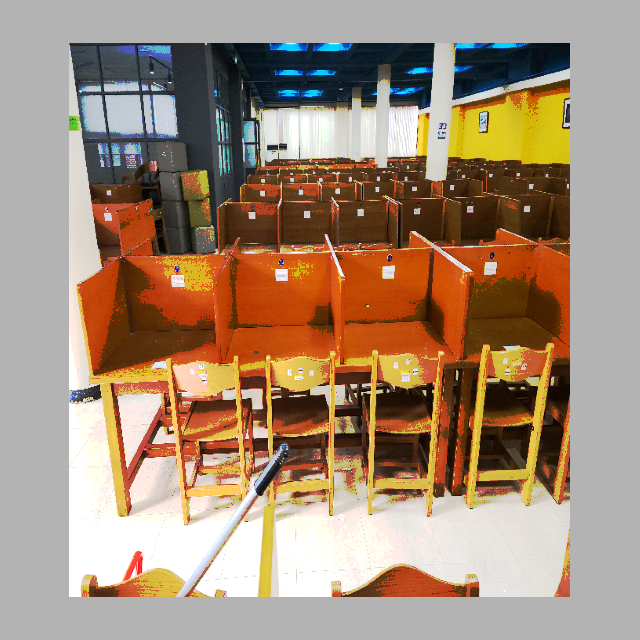empty: (84, 248, 219, 429), (222, 249, 346, 444), (352, 242, 460, 436)
